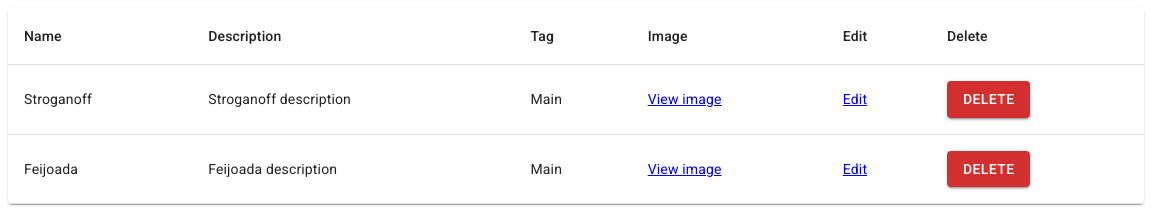
AdminDishes › deletes a dish and removes its row after cache invalidation
Click the button "Delete" in the row of "Stroganoff description": click(989, 99) [947, 81, 1030, 118]
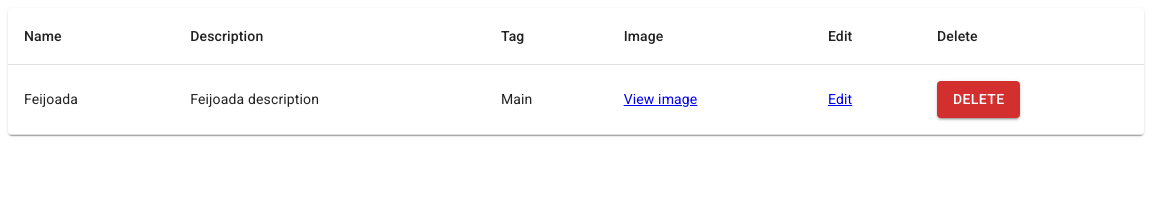
Expected: the text "Feijoada" is shown, [8, 64, 174, 134]
Expected: the text "Stroganoff" is gone
